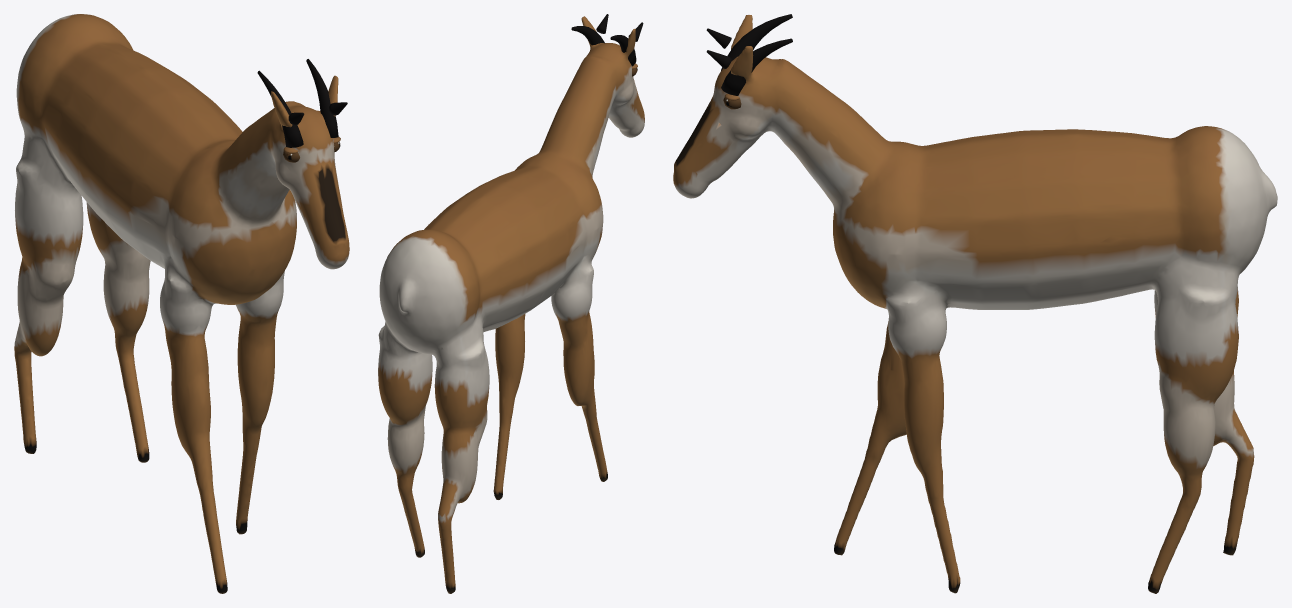
The model's file is AntilocapraAmericana.fbx.
3 views of the same model, side by side, from view 1: azimuth 30°, elevation 25°; view 2: azimuth 150°, elevation 25°; view 3: azimuth 270°, elevation 25° (orthographic). The views are drawn at different scales.
Parts seen in each view (by area): view 1: AntilocapraAmericana; view 2: AntilocapraAmericana; view 3: AntilocapraAmericana.
Boxes of the visible parts, bbox=[...] form: AntilocapraAmericana: bbox=[14, 14, 349, 593]; AntilocapraAmericana: bbox=[378, 14, 644, 593]; AntilocapraAmericana: bbox=[673, 14, 1277, 593].
Bounding box in the file's own units: 0.3531 × 1.43 × 1.43.
